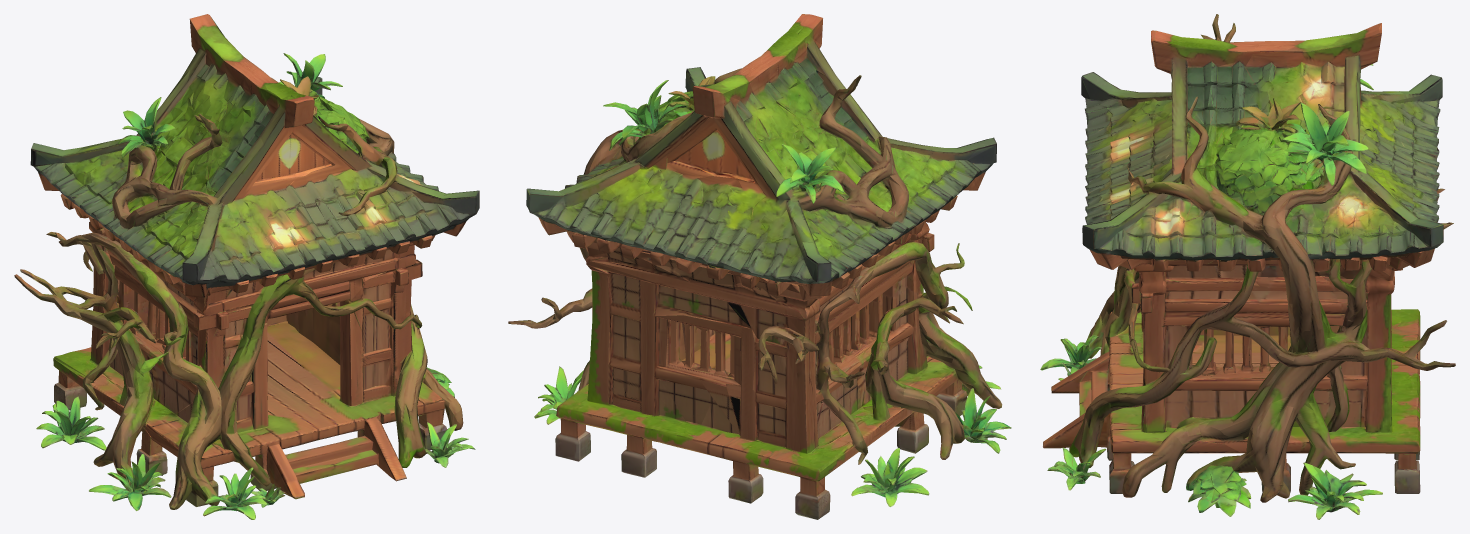
Rendered from templegym.glb.
The picture shows the model from 3 angles, left to right: view 1: azimuth 30°, elevation 25°; view 2: azimuth 150°, elevation 25°; view 3: azimuth 270°, elevation 25°; orthographic projection. The views are drawn at different scales.
Bounding box in the file's own units: 1.9 × 1.77 × 1.66.
Materials: 1 (1 with a texture image).
